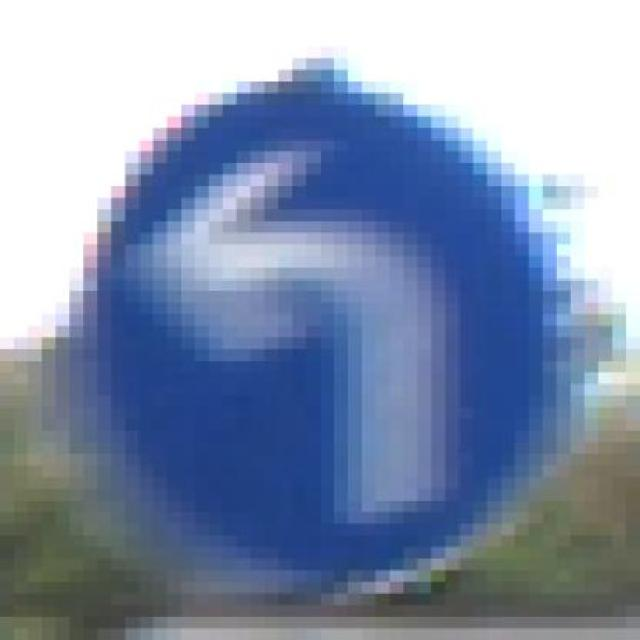Turn left ahead: (56, 58, 584, 605)
